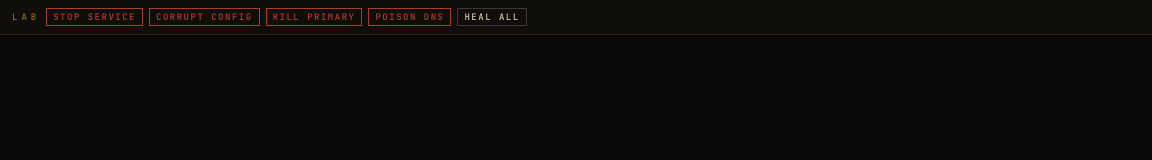
Scenario: LabControls › reports a fault script that exits non-zero as a failure, not an injection
Click the button with test id "fault-kill_primary" at (314, 17), box [266,8,362,26]
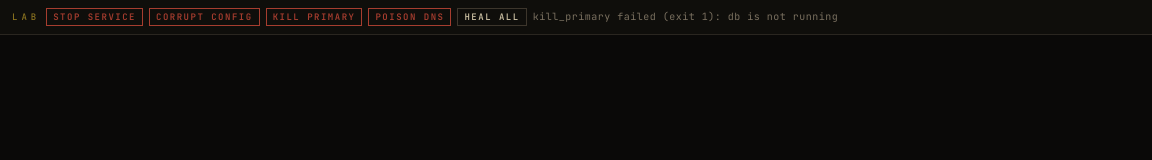
Expected: the text with test id "lab-msg" reads "kill_primary failed (exit 1): db is not running", [533,10,838,23]
